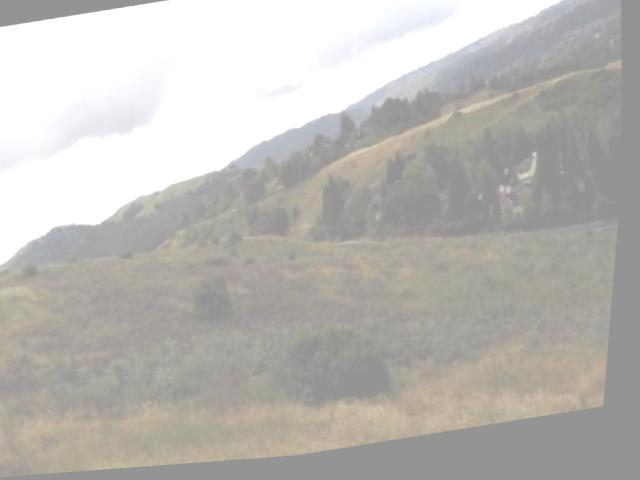iha: (107, 160, 134, 190)
